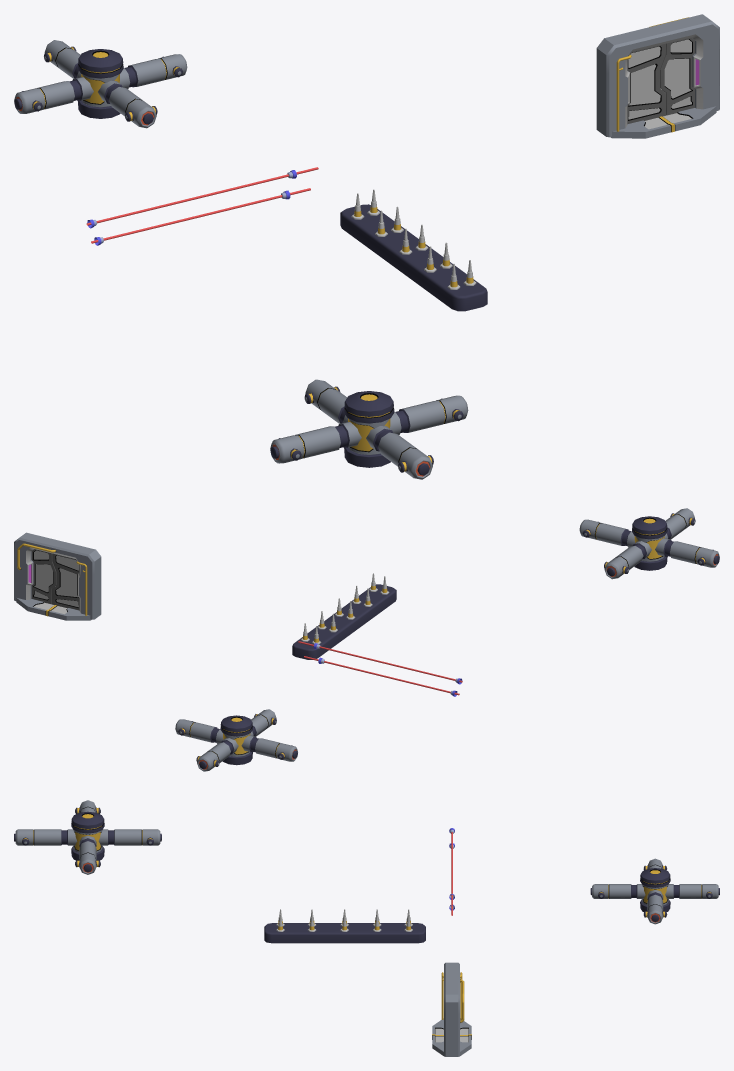
3 renders of one model, top to bottom at view 1: azimuth 30°, elevation 25°; view 2: azimuth 150°, elevation 25°; view 3: azimuth 270°, elevation 25°, orthographic. The views are drawn at different scales.
Parts seen in each view (by area): view 1: pCylinder14 (×8), Base (×2), pCylinder13 (×2), Right, Left, Base5; view 2: pCylinder14 (×8), Base (×2), pCylinder13 (×2), Right, Left, Base5; view 3: pCylinder14 (×6), Base (×2), pCylinder13 (×2), Base5.
Boxes of the visible parts, left/top/right/bottom form: pCylinder14 (×8): left=14, top=40, right=468, bottom=479; Base (×2): left=340, top=14, right=719, bottom=311; pCylinder13 (×2): left=77, top=49, right=394, bottom=467; Right: left=627, top=43, right=666, bottom=124; Left: left=660, top=37, right=694, bottom=115; Base5: left=610, top=106, right=716, bottom=138; pCylinder14 (×8): left=175, top=508, right=719, bottom=771; Base (×2): left=14, top=532, right=396, bottom=659; pCylinder13 (×2): left=220, top=516, right=667, bottom=765; Right: left=52, top=553, right=79, bottom=610; Left: left=31, top=549, right=56, bottom=604; Base5: left=16, top=598, right=91, bottom=620; pCylinder14 (×6): left=14, top=829, right=719, bottom=924; Base (×2): left=264, top=923, right=459, bottom=1056; pCylinder13 (×2): left=71, top=811, right=670, bottom=911; Base5: left=432, top=1018, right=471, bottom=1056.
Size of the model in its own units: 343 by 44.53 by 440.
